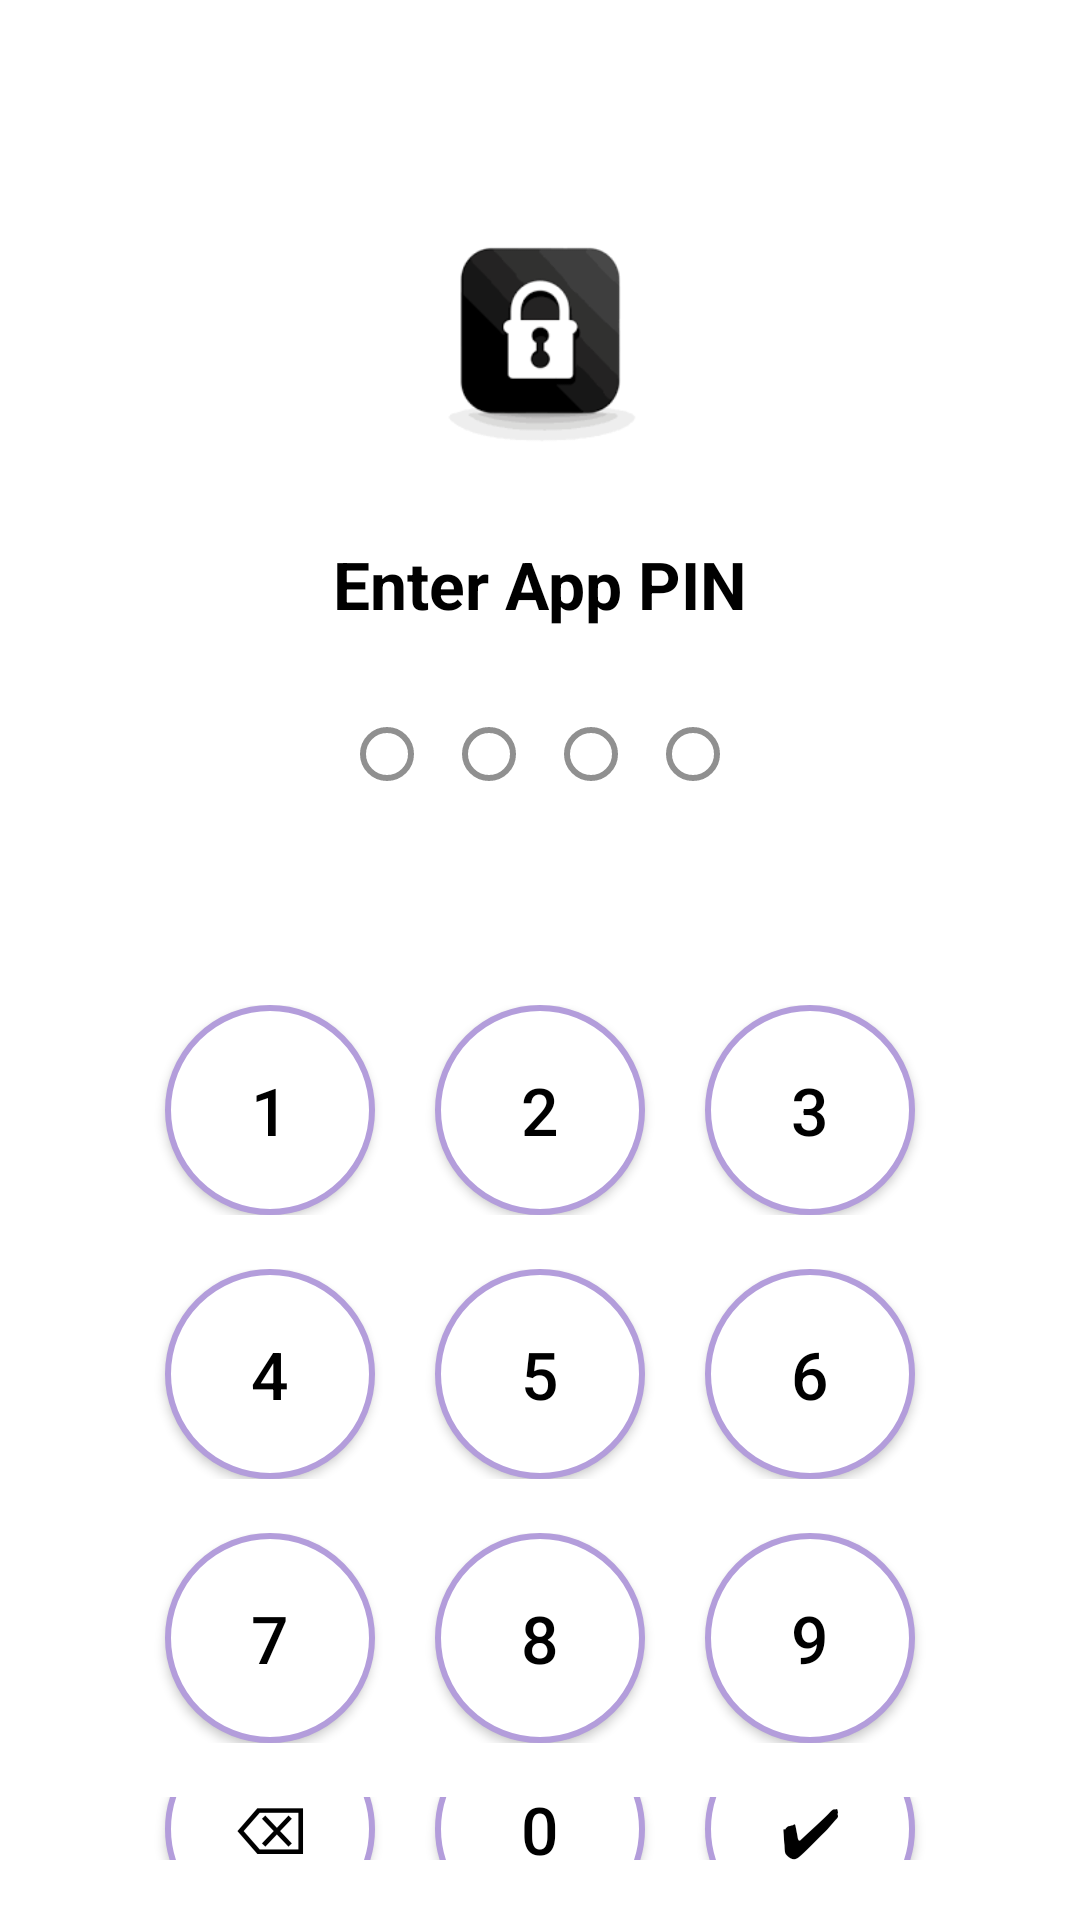

Icons on this 1080px x 1920px Android screen, each with its box as (left=x1, top=y1, right=x2, bottom=y2):
lock: (left=460, top=248, right=620, bottom=431)
pin empty: (left=360, top=727, right=414, bottom=781), (left=462, top=727, right=516, bottom=781), (left=564, top=727, right=618, bottom=781), (left=666, top=727, right=720, bottom=781)
